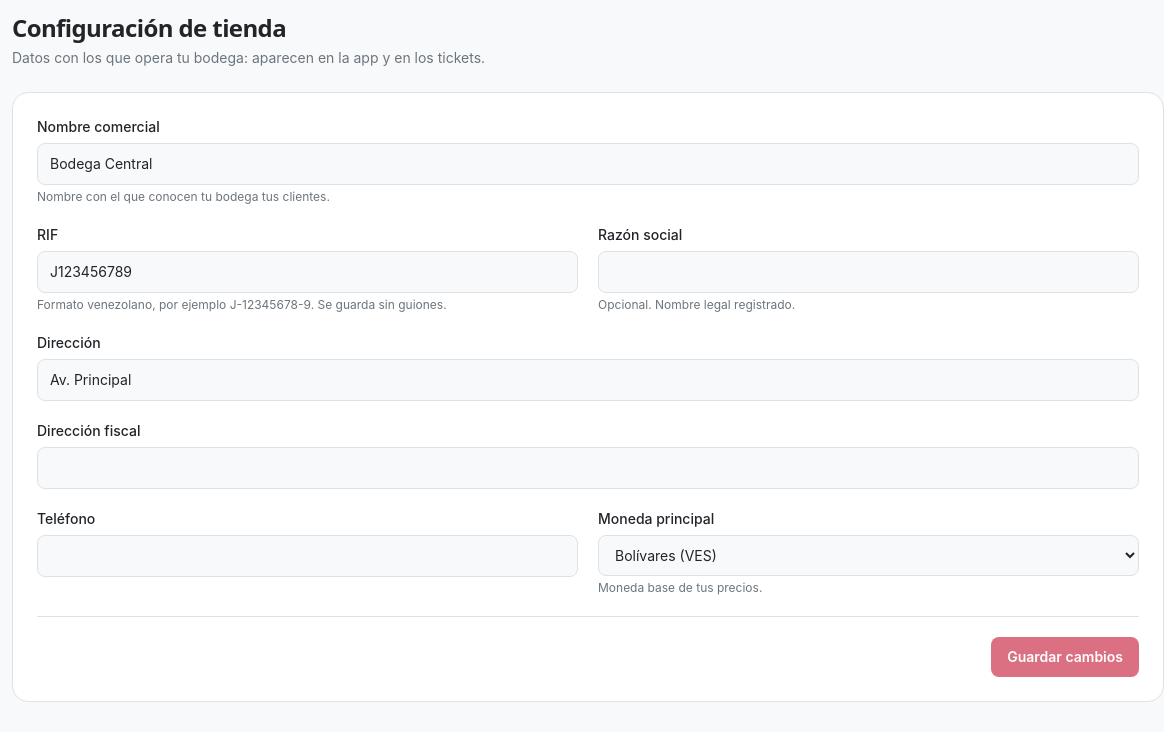
Scenario: ConfiguracionTiendaPage › maps 422 validation detalles for rif/moneda to their fields
Expected: the field labelled "Nombre comercial" holds "Bodega Central", x1=37 y1=143 x2=1139 y2=185
Step 1. Replace the text in the field labelled "RIF" with "J12345678-0" → (308, 272), box x1=37 y1=251 x2=578 y2=293
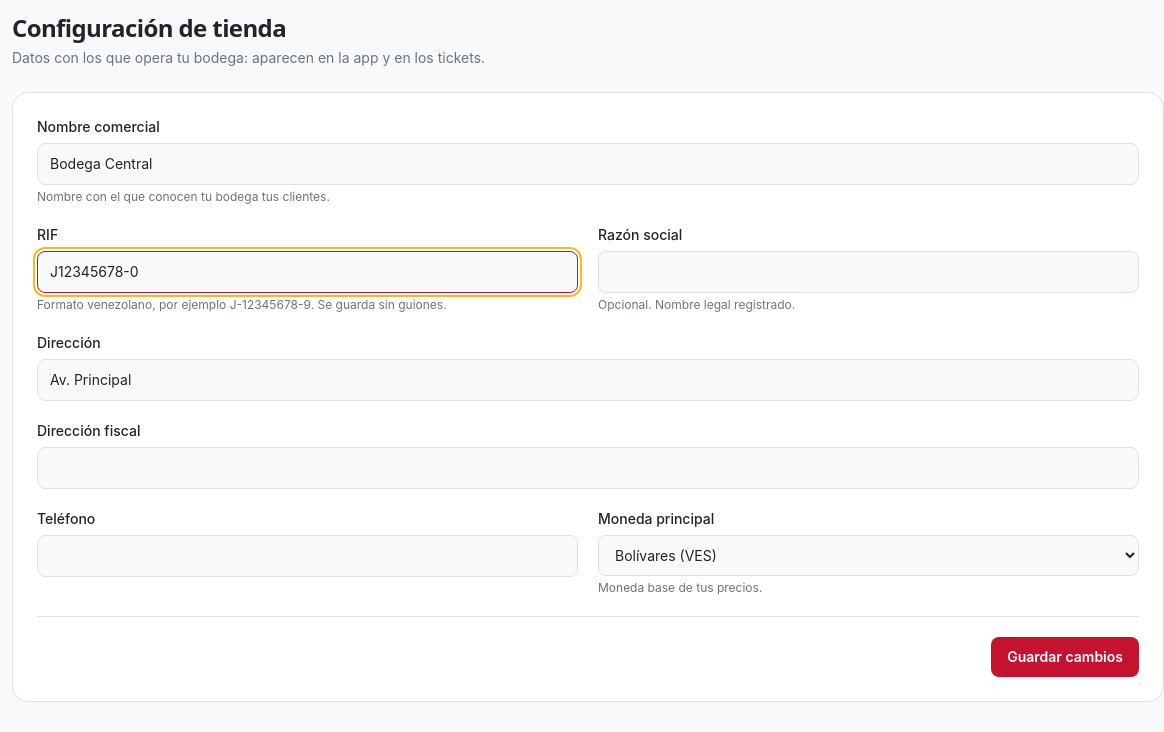
Step 2. Click the button "Guardar cambios" → (1065, 657), box x1=991 y1=637 x2=1139 y2=677
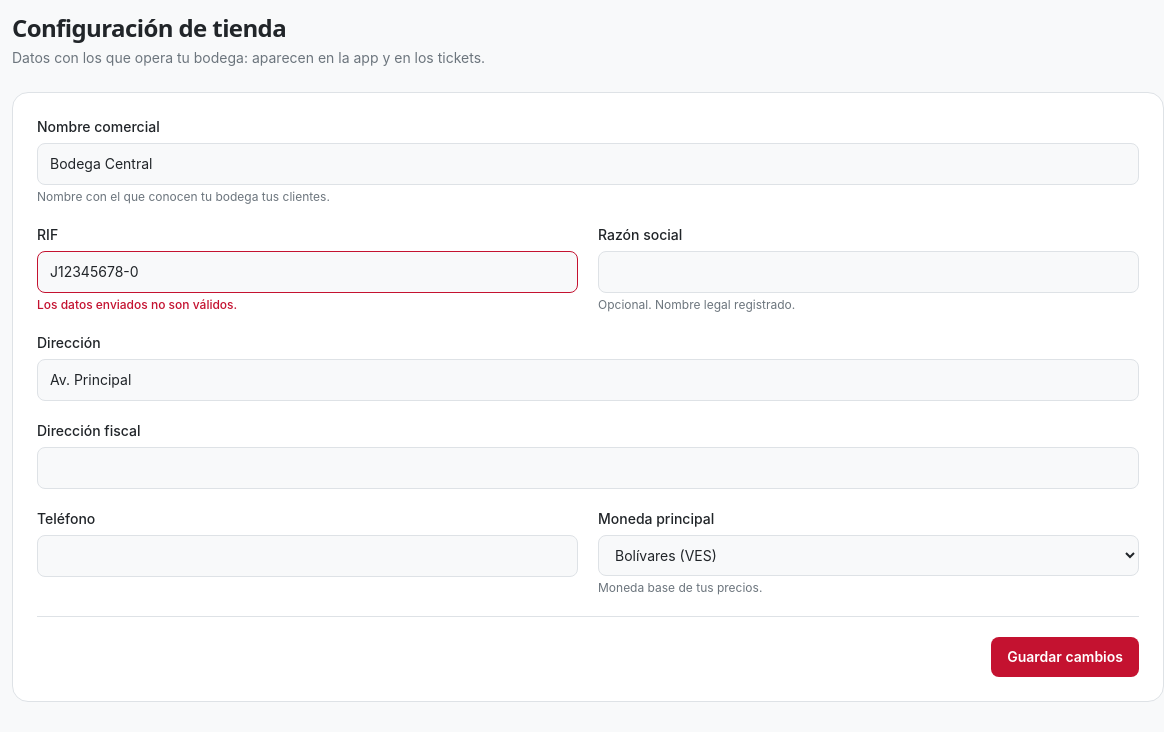
Expected: the text "Los datos enviados no son válidos." is shown, x1=37 y1=297 x2=237 y2=312
